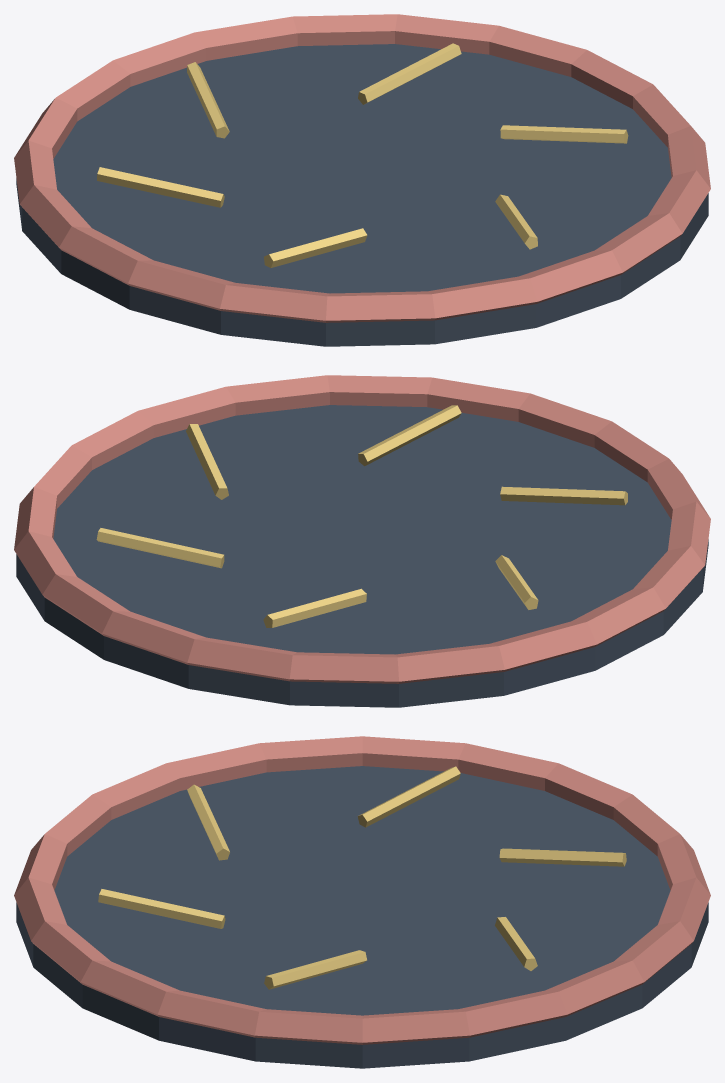
Rendered from marca_golpe.glb.
3 views of the same model, one above another, from view 1: azimuth 30°, elevation 25°; view 2: azimuth 150°, elevation 25°; view 3: azimuth 270°, elevation 25° (orthographic).
Visible parts, largest first — view 1: marca_golpe; view 2: marca_golpe; view 3: marca_golpe.
Boxes of the visible parts, x1,y1,x2,y2 form: marca_golpe: (14, 14, 710, 346); marca_golpe: (14, 375, 710, 707); marca_golpe: (14, 736, 710, 1068).
Size of the model in its own units: 1.13 by 0.0919 by 1.13.
